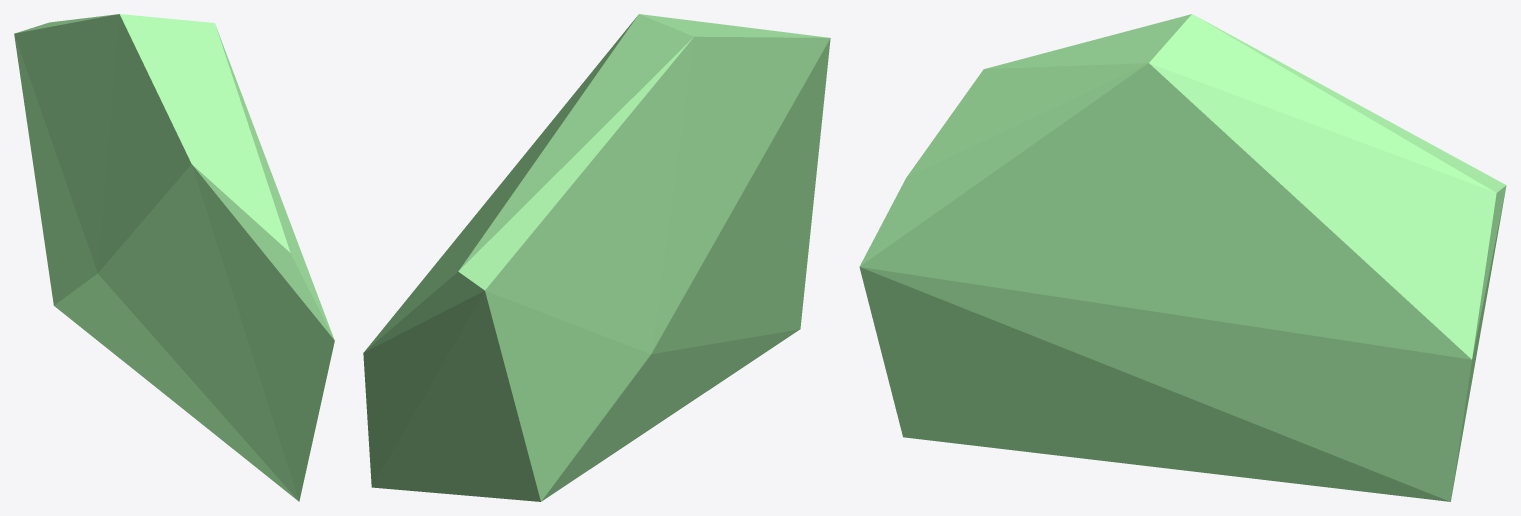
Rendered from dvkr_robot_L3_dx_respondable_TOOL2_coll_16.dae.
The picture shows the model from 3 angles, left to right: view 1: azimuth 30°, elevation 25°; view 2: azimuth 150°, elevation 25°; view 3: azimuth 270°, elevation 25°; orthographic projection. The views are drawn at different scales.
Visible parts, largest first — view 1: Node_0000023514CD8050; view 2: Node_0000023514CD8050; view 3: Node_0000023514CD8050.
Boxes of the visible parts, left/top/right/bottom form: Node_0000023514CD8050: left=14, top=14, right=334, bottom=501; Node_0000023514CD8050: left=363, top=14, right=830, bottom=501; Node_0000023514CD8050: left=859, top=14, right=1506, bottom=501.
Size of the model in its own units: 0.00178 by 0.00313 by 0.00454.
